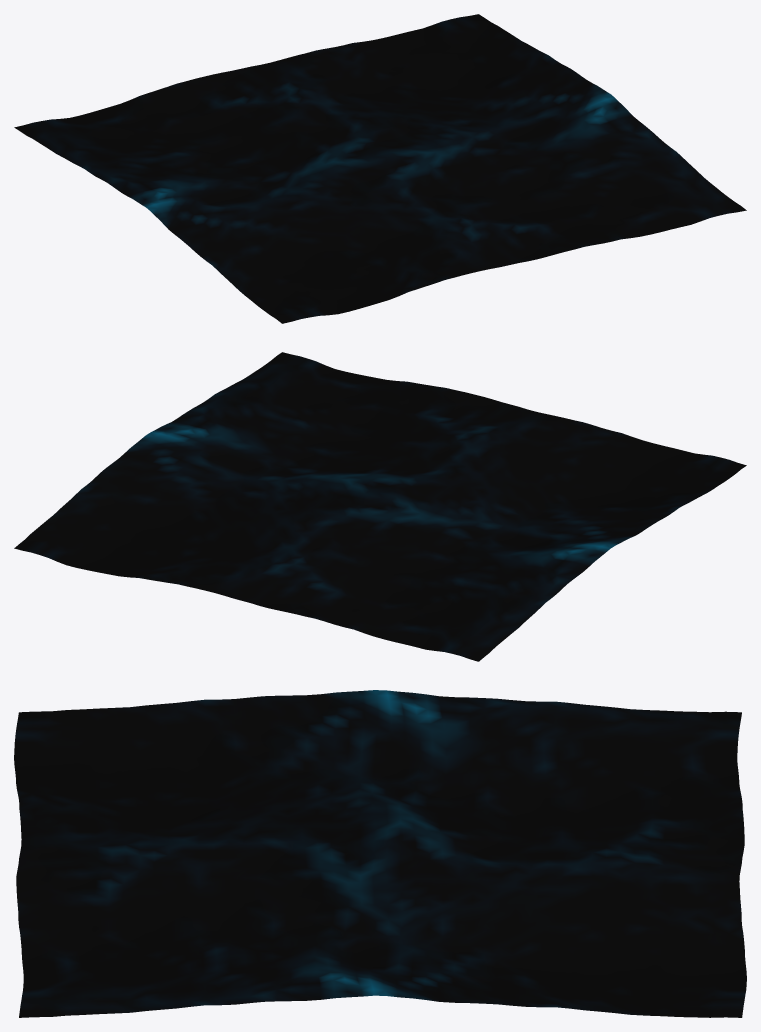
The model's file is Sea(15).glb.
3 renders of one model, top to bottom at view 1: azimuth 30°, elevation 25°; view 2: azimuth 150°, elevation 25°; view 3: azimuth 270°, elevation 25°, orthographic. The views are drawn at different scales.
Visible parts, largest first — view 1: Sea; view 2: Sea; view 3: Sea.
Boxes of the visible parts, left/top/right/bottom form: Sea: left=14, top=14, right=746, bottom=323; Sea: left=14, top=352, right=746, bottom=661; Sea: left=14, top=690, right=746, bottom=1017.
Bounding box in the file's own units: 50.41 × 2.19 × 50.68.
